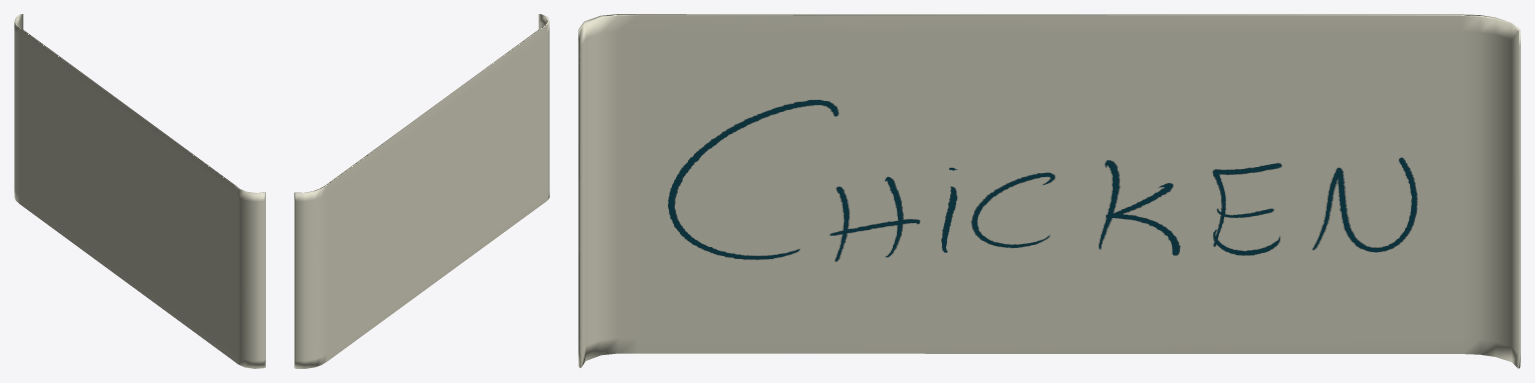
File: papelzinhoChicken.fbx
3 renders of one model, left to right at view 1: azimuth 30°, elevation 25°; view 2: azimuth 150°, elevation 25°; view 3: azimuth 270°, elevation 25°, orthographic. The views are drawn at different scales.
Visible parts, largest first — view 1: Papelzinho; view 2: Papelzinho; view 3: Papelzinho.
Boxes of the visible parts, x1,y1,x2,y2 form: Papelzinho: [14, 14, 265, 368]; Papelzinho: [294, 14, 549, 368]; Papelzinho: [578, 14, 1520, 368].
Size of the model in its own units: 6.73 by 60.75 by 154.
